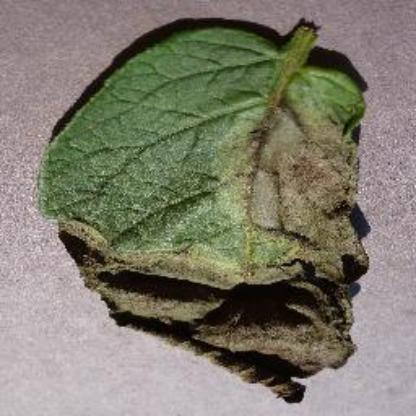Late-Blight: (37, 12, 376, 402)
